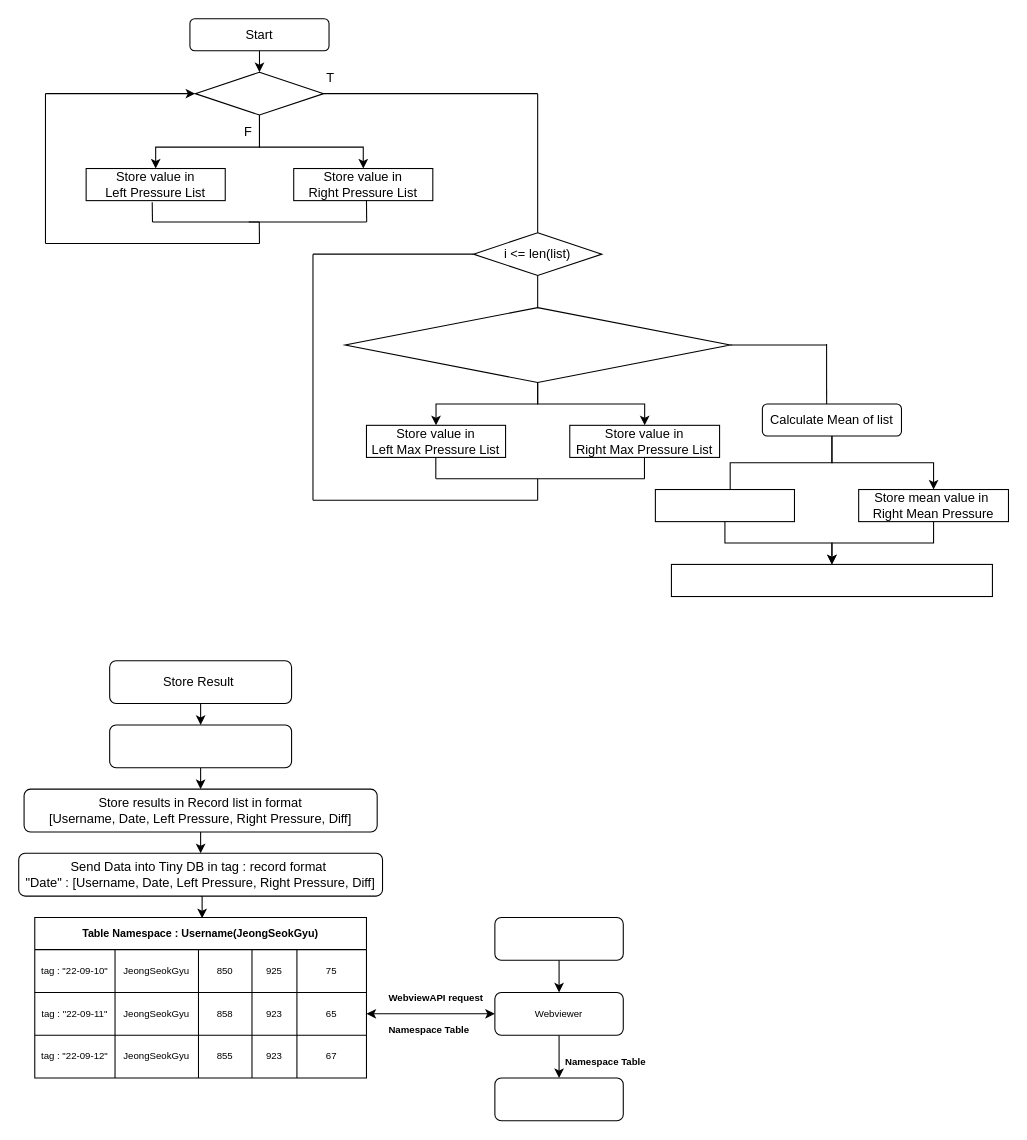
Image size: 1027x1140. Some labels were removed from this diagram. The centre of each missing label's shape, as x and y in pixels:
"Diff = Left Mean Pressure - Right Mean Pressure" belongs at pixel 831 580.
"Extract user name and date" belongs at pixel 200 746.
"if (list[i] > 700) and (list[i-1] <= list[i]) and (list[i-1] <= list[i])" belongs at pixel 537 345.
"Linechart.html Tablechart.html" belongs at pixel 558 1099.
"Show result" belongs at pixel 558 938.
"Stop activate" belongs at pixel 259 93.
"Store mean value in Left Mean Pressure" belongs at pixel 724 505.
